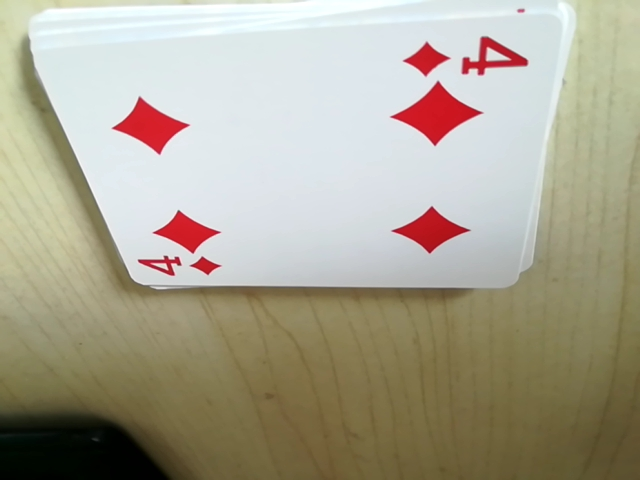fk 4: (398, 24, 535, 84), (129, 248, 226, 286)
